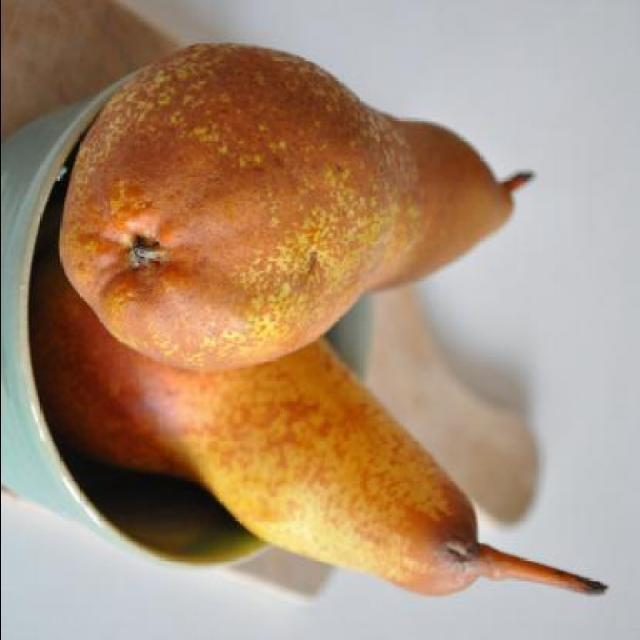Pear: (56, 40, 516, 372), (28, 266, 480, 597)
